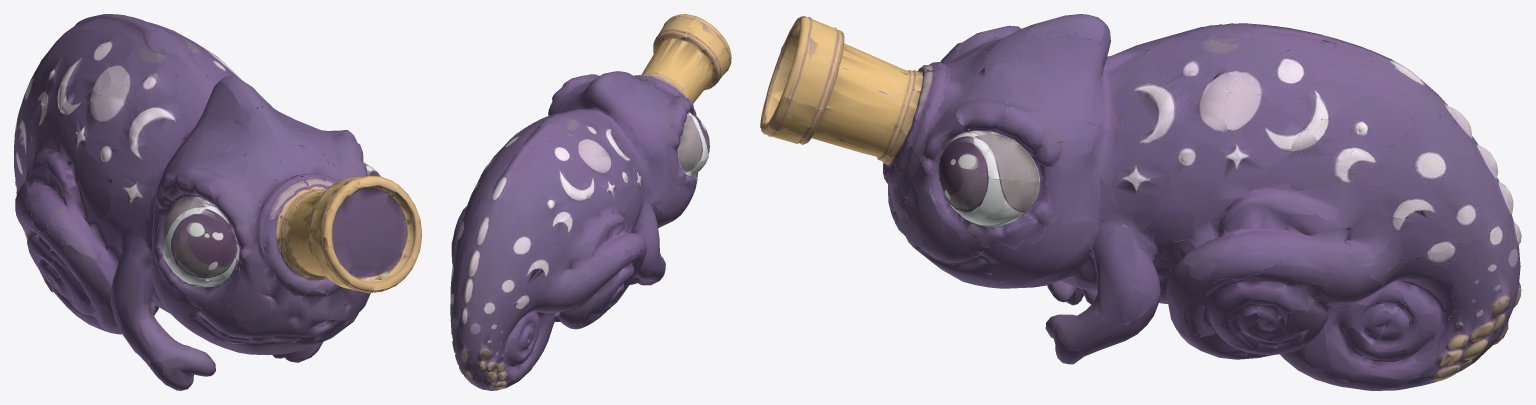
3 renders of one model, left to right at view 1: azimuth 30°, elevation 25°; view 2: azimuth 150°, elevation 25°; view 3: azimuth 270°, elevation 25°, orthographic. The views are drawn at different scales.
Visible parts, largest first — view 1: Mesh_0; view 2: Mesh_0; view 3: Mesh_0.
Boxes of the visible parts, x1,y1,x2,y2 form: Mesh_0: (14, 14, 421, 390); Mesh_0: (450, 14, 731, 390); Mesh_0: (760, 14, 1521, 390).
Bounding box in the file's own units: 0.7682 × 1.03 × 1.9.
1 material, 1 textured.
